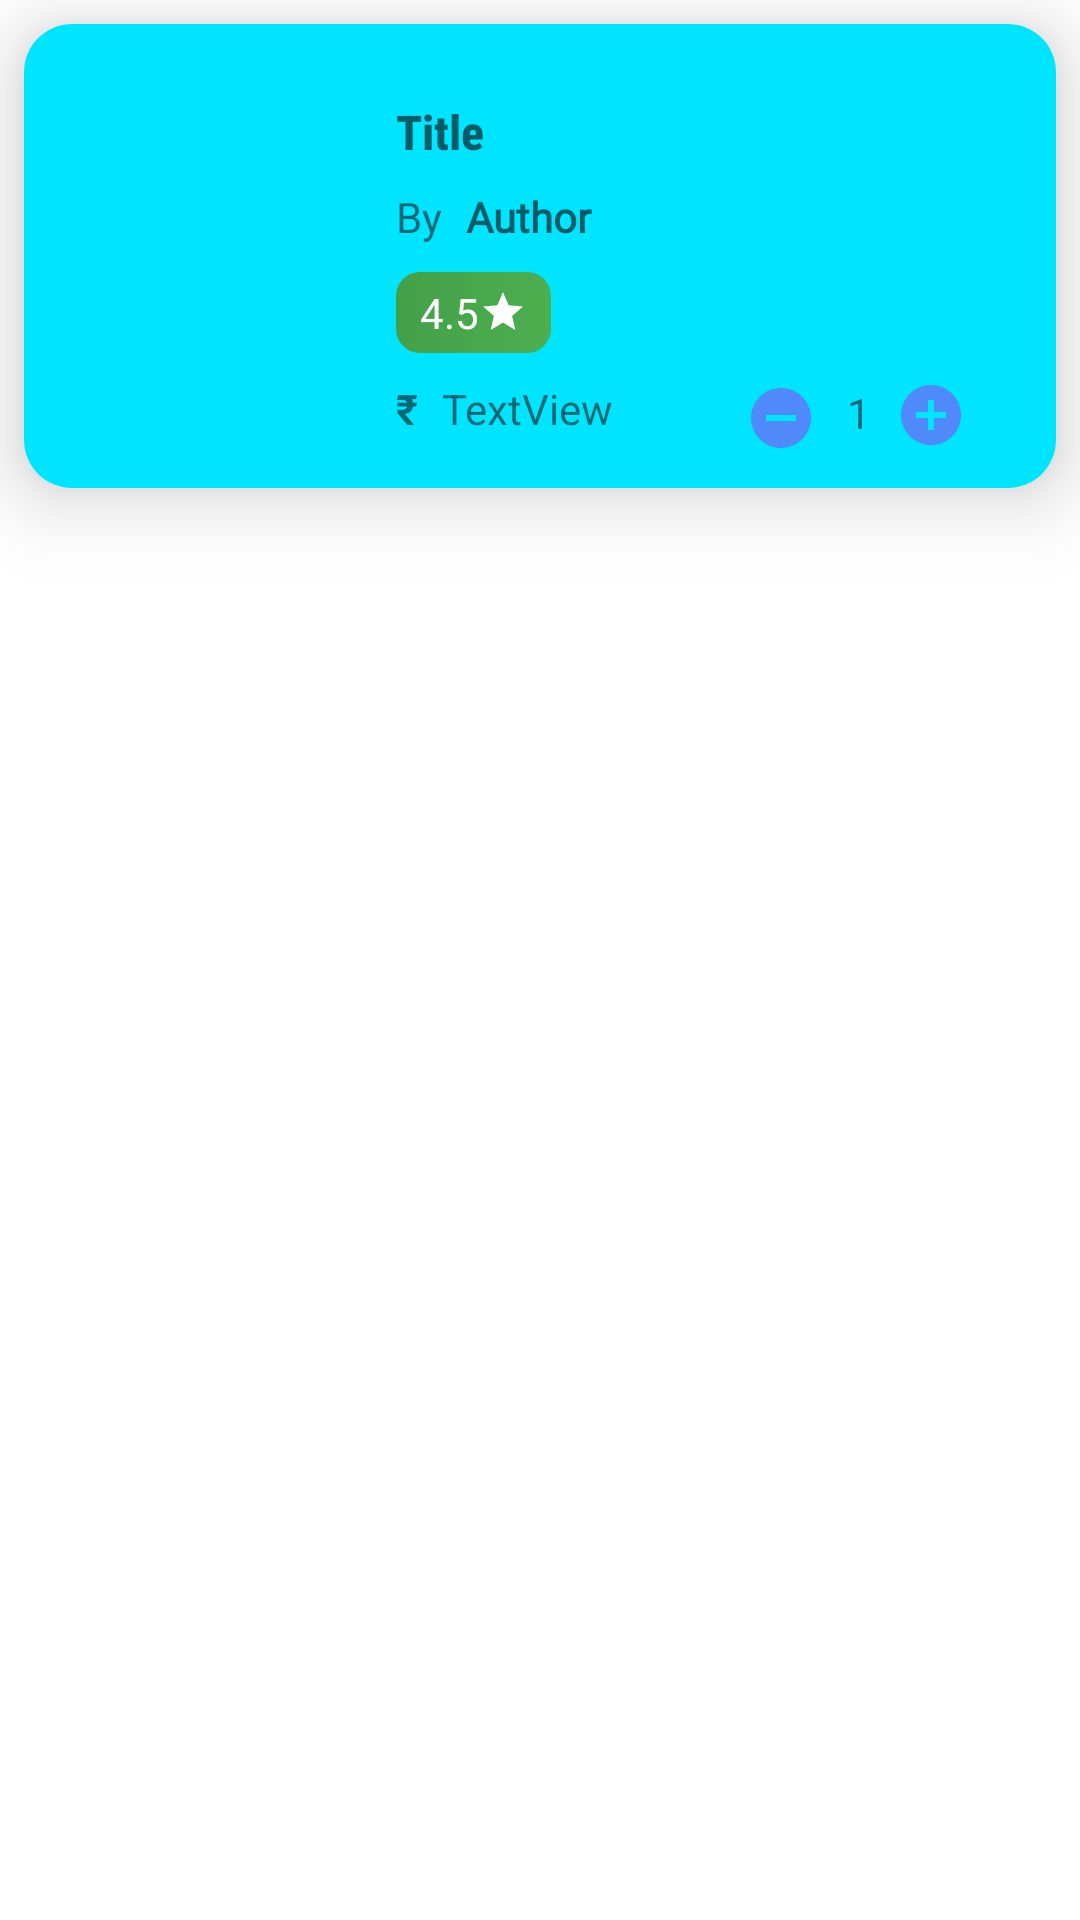

Icons on this 1080 × 1920 Android screen, each with its box as (x1, y1, x2, y2):
minus: (751, 388, 811, 448)
plus: (901, 385, 961, 445)
